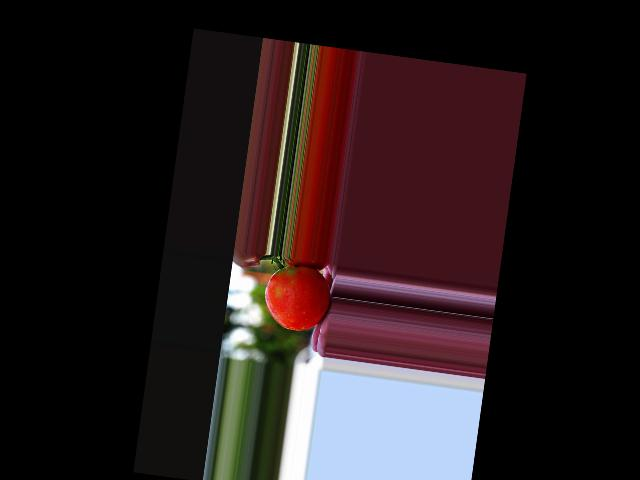tomato: (260, 262, 333, 334)
